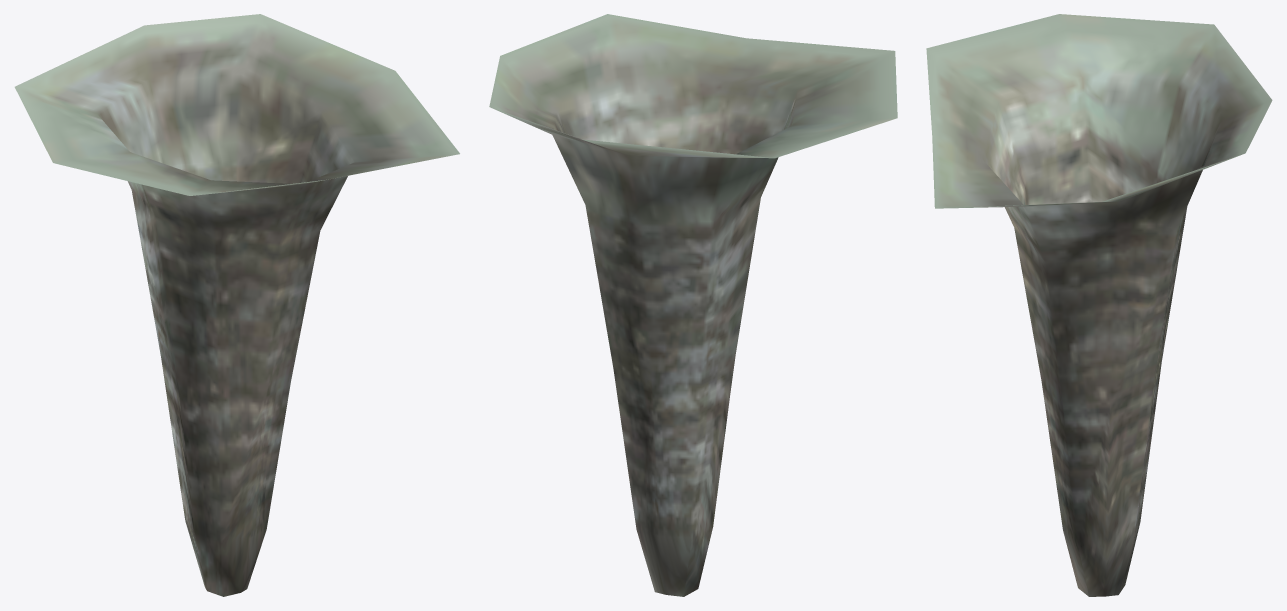
Rendered from TROLLHOLE02_PS-MAINSTALAG78.fbx.
3 views of the same model, side by side, from view 1: azimuth 30°, elevation 25°; view 2: azimuth 150°, elevation 25°; view 3: azimuth 270°, elevation 25° (orthographic). The views are drawn at different scales.
Parts seen in each view (by area): view 1: TROLLHOLE02_PS-MAINSTALAG78; view 2: TROLLHOLE02_PS-MAINSTALAG78; view 3: TROLLHOLE02_PS-MAINSTALAG78.
Part boxes in pixels (box(x1,y1,x2,y2)): TROLLHOLE02_PS-MAINSTALAG78: box(14, 14, 459, 596); TROLLHOLE02_PS-MAINSTALAG78: box(489, 14, 897, 596); TROLLHOLE02_PS-MAINSTALAG78: box(926, 14, 1272, 596).
Bounding box in the file's own units: 18102 × 23965 × 15090.
Materials: 1 (1 with a texture image).
